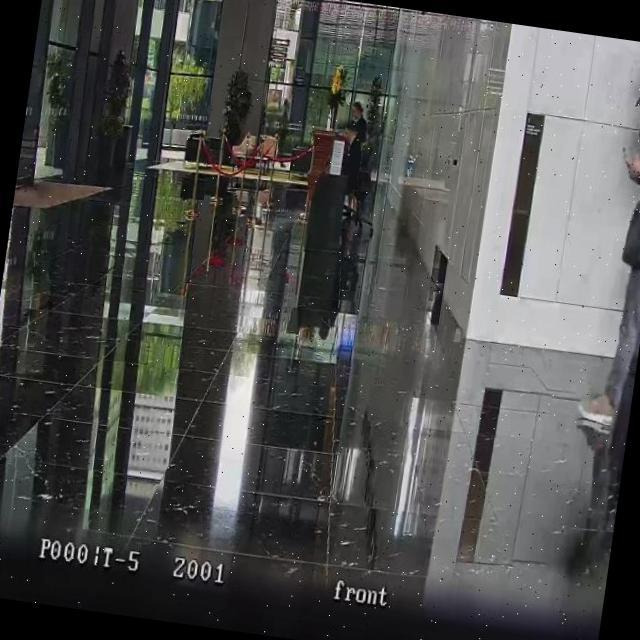person: (574, 53, 640, 440), (338, 120, 367, 196), (347, 100, 371, 144)
